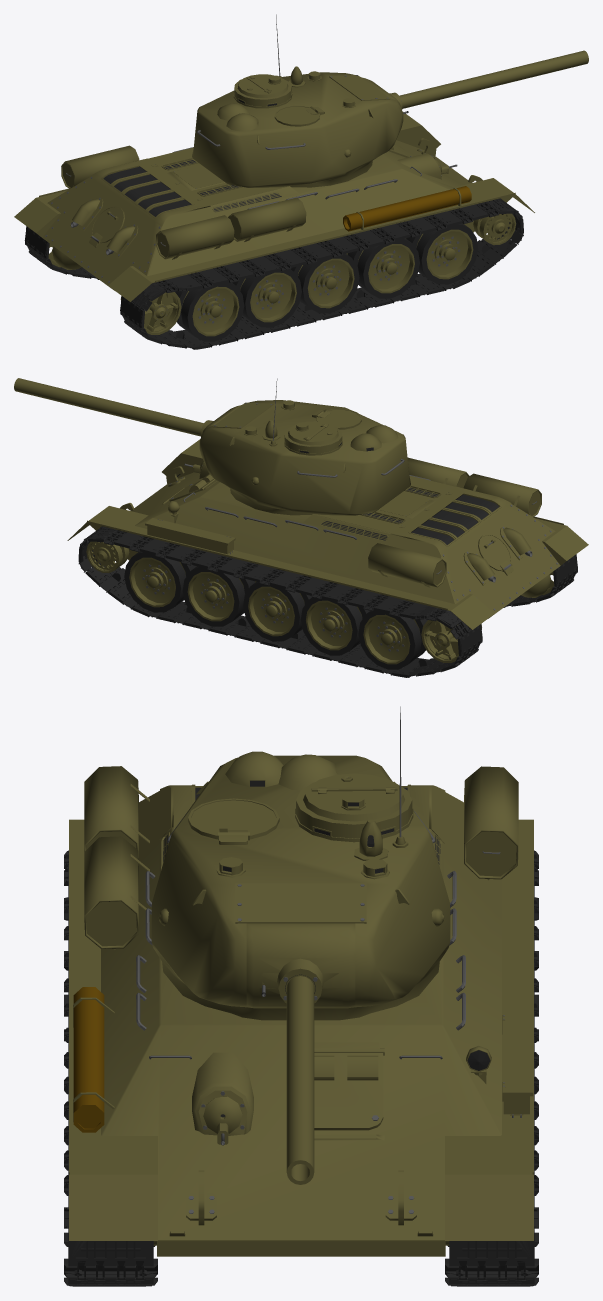
The picture shows the model from 3 angles, top to bottom: view 1: azimuth 30°, elevation 25°; view 2: azimuth 150°, elevation 25°; view 3: azimuth 270°, elevation 25°; orthographic projection. The views are drawn at different scales.
Parts seen in each view (by area): view 1: T34 Body, T34 Head.001, R.Truck, L.Truck.002, T34 Head, R.Wheel.003, R.Wheel.002, R.Wheel.001, R.Wheel.005, R.Wheel.004, T34 Gun, R.wheel.006 (+3 smaller); view 2: T34 Body, T34 Head.001, L.Truck, L.Truck.002, T34 Head, Cylinder.003, Cylinder.002, Cylinder.001, Cylinder.005, Cylinder.004, T34 Gun, L.wheel.006 (+3 smaller); view 3: T34 Body, T34 Head.001, L.Truck.002, T34 Head, T34 Gun, L.Truck, R.Truck, T34 Body.001, T34 Body.004.
Part boxes in pixels (x1,y1,x2,y2): T34 Body: (14,112,534,301); T34 Head.001: (192,72,403,187); R.Truck: (120,198,523,349); L.Truck.002: (61,145,471,259); T34 Head: (197,14,402,157); R.Wheel.003: (175,282,244,341); R.Wheel.002: (347,228,419,298); R.Wheel.001: (406,223,478,284); R.Wheel.005: (291,243,359,313); R.Wheel.004: (232,256,301,327); T34 Gun: (399,50,588,108); R.wheel.006: (120,292,181,334); T34 Body: (67,439,588,629); T34 Head.001: (199,400,410,515); L.Truck: (78,526,482,677); L.Truck.002: (183,457,541,587); T34 Head: (200,378,404,485); Cylinder.003: (358,610,427,669); Cylinder.002: (182,556,254,626); Cylinder.001: (124,551,196,612); Cylinder.005: (243,571,311,641); Cylinder.004: (300,584,370,655); T34 Gun: (14,378,203,436); L.wheel.006: (421,620,481,662); T34 Body: (69,784,533,1256); T34 Head.001: (151,755,450,1020); L.Truck.002: (73,766,518,1132); T34 Head: (158,706,444,1004); T34 Gun: (286,976,314,1184); L.Truck: (445,850,538,1286); R.Truck: (64,850,157,1286); T34 Body.001: (192,1052,253,1145); T34 Body.004: (186,1170,416,1225).
Size of the model in its own units: 890 by 393 by 357.
